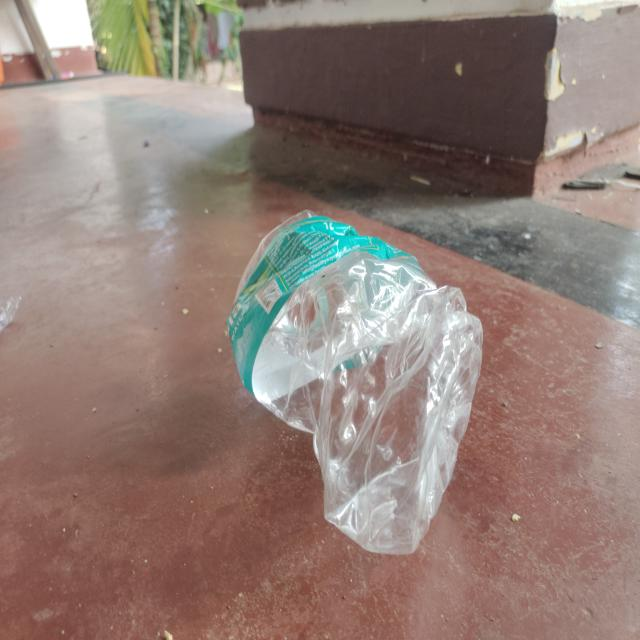plastic: (226, 207, 484, 562)
